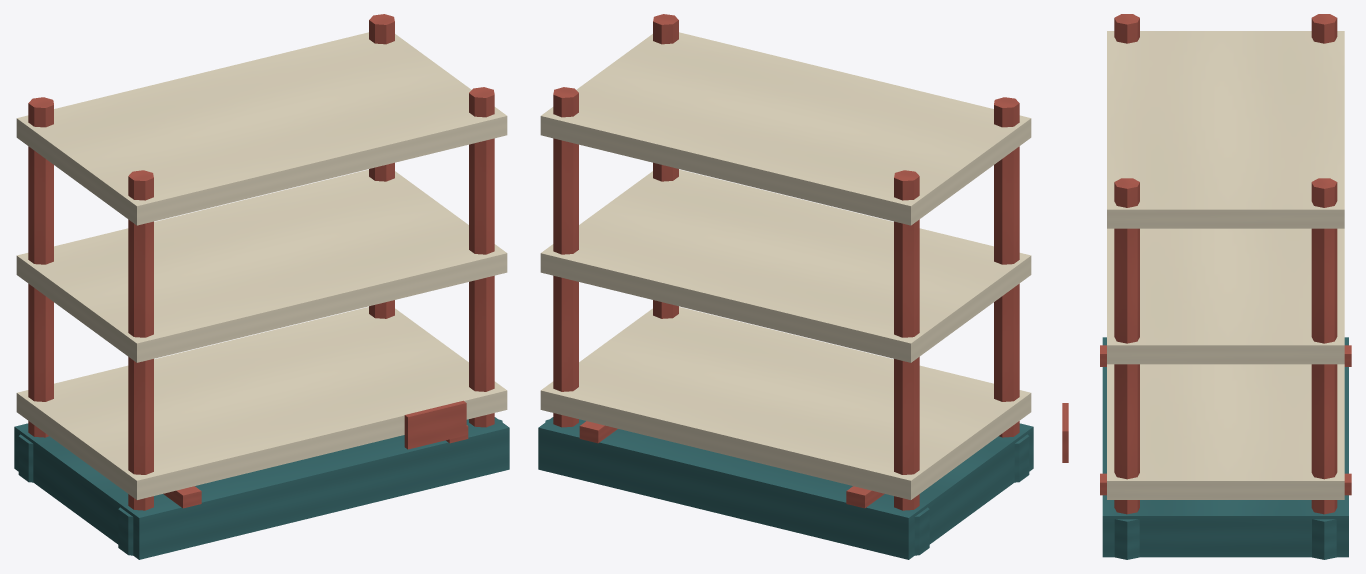
The model's file is atlas100-s037-a06.lod1.glb.
3 renders of one model, left to right at view 1: azimuth 30°, elevation 25°; view 2: azimuth 150°, elevation 25°; view 3: azimuth 270°, elevation 25°, orthographic.
Visible parts, largest first — view 1: atlas100-s037-a06:part-013, atlas100-s037-a06:part-012, atlas100-s037-a06:part-011, atlas100-s037-a06:part-000, atlas100-s037-a06:part-005, atlas100-s037-a06:part-009, atlas100-s037-a06:part-003, atlas100-s037-a06:part-014, atlas100-s037-a06:part-007, atlas100-s037-a06:part-004, atlas100-s037-a06:part-006; view 2: atlas100-s037-a06:part-013, atlas100-s037-a06:part-012, atlas100-s037-a06:part-011, atlas100-s037-a06:part-000, atlas100-s037-a06:part-003, atlas100-s037-a06:part-007, atlas100-s037-a06:part-005, atlas100-s037-a06:part-009, atlas100-s037-a06:part-006, atlas100-s037-a06:part-004; view 3: atlas100-s037-a06:part-013, atlas100-s037-a06:part-012, atlas100-s037-a06:part-011, atlas100-s037-a06:part-000, atlas100-s037-a06:part-007, atlas100-s037-a06:part-009, atlas100-s037-a06:part-010, atlas100-s037-a06:part-008, atlas100-s037-a06:part-003, atlas100-s037-a06:part-005, atlas100-s037-a06:part-014.
Boxes of the visible parts, box(x1,y1,x2,y2) form: atlas100-s037-a06:part-013: box(16, 32, 507, 225); atlas100-s037-a06:part-012: box(16, 169, 507, 362); atlas100-s037-a06:part-011: box(16, 307, 507, 499); atlas100-s037-a06:part-000: box(14, 417, 509, 559); atlas100-s037-a06:part-005: box(128, 170, 153, 510); atlas100-s037-a06:part-009: box(469, 87, 494, 427); atlas100-s037-a06:part-003: box(28, 97, 53, 437); atlas100-s037-a06:part-014: box(404, 400, 466, 449); atlas100-s037-a06:part-007: box(369, 14, 394, 318); atlas100-s037-a06:part-004: box(18, 434, 33, 482); atlas100-s037-a06:part-006: box(118, 507, 133, 555); atlas100-s037-a06:part-013: box(540, 32, 1031, 225); atlas100-s037-a06:part-012: box(540, 169, 1031, 362); atlas100-s037-a06:part-011: box(540, 307, 1031, 499); atlas100-s037-a06:part-000: box(538, 417, 1033, 559); atlas100-s037-a06:part-003: box(894, 170, 919, 510); atlas100-s037-a06:part-007: box(553, 87, 578, 427); atlas100-s037-a06:part-005: box(994, 97, 1019, 437); atlas100-s037-a06:part-009: box(653, 14, 678, 318); atlas100-s037-a06:part-006: box(1014, 434, 1029, 482); atlas100-s037-a06:part-004: box(914, 507, 929, 555); atlas100-s037-a06:part-013: box(1107, 31, 1344, 228); atlas100-s037-a06:part-012: box(1107, 228, 1344, 364); atlas100-s037-a06:part-011: box(1107, 364, 1344, 499); atlas100-s037-a06:part-000: box(1102, 337, 1348, 557); atlas100-s037-a06:part-007: box(1311, 178, 1337, 514); atlas100-s037-a06:part-009: box(1114, 178, 1139, 514); atlas100-s037-a06:part-010: box(1114, 519, 1139, 559); atlas100-s037-a06:part-008: box(1312, 519, 1336, 559); atlas100-s037-a06:part-003: box(1311, 14, 1337, 43); atlas100-s037-a06:part-005: box(1114, 14, 1139, 43); atlas100-s037-a06:part-014: box(1062, 403, 1068, 462).
Size of the model in its own units: 2.46 by 2.3 by 1.64.
3 materials, 3 textured.
